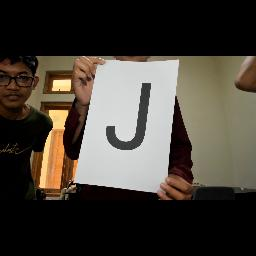j: (104, 80, 162, 156)
